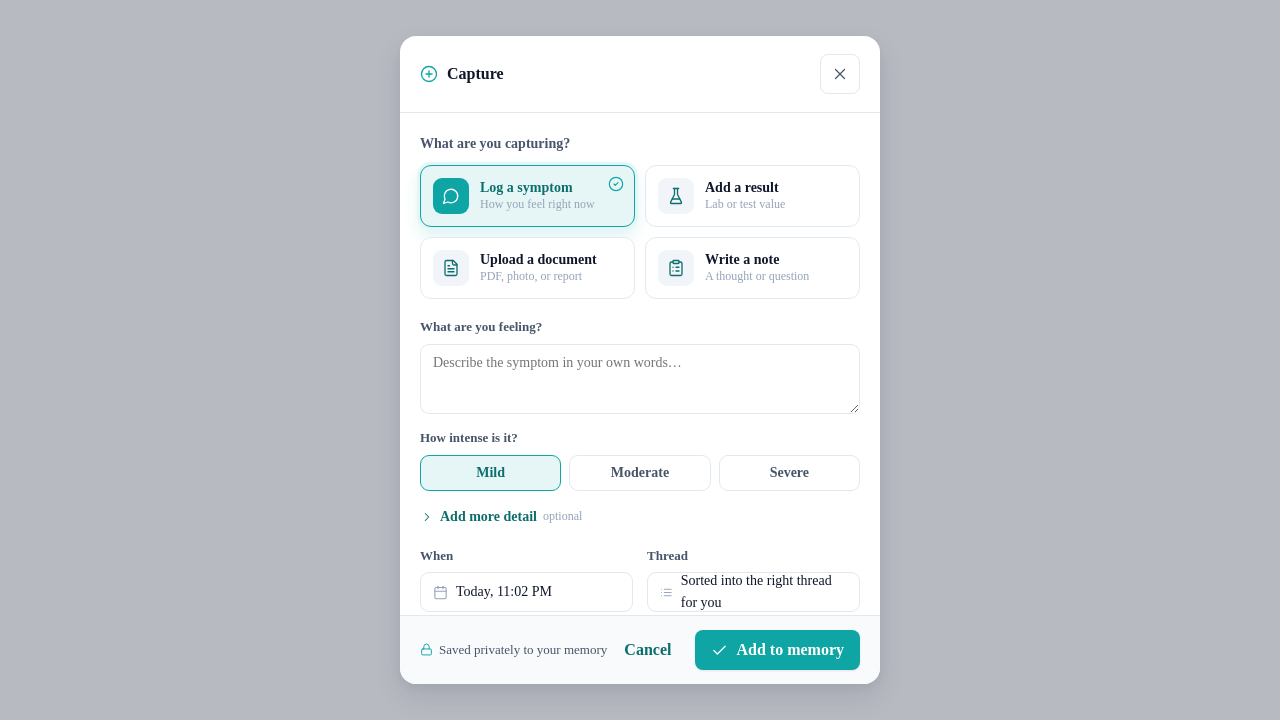
Test: CaptureModal › never requires the extra detail — a filled prompt with an empty story is still blocked
Click the button "Add more detail optional". click: click(501, 517)
box: [420, 505, 582, 529]
(page scrolled)
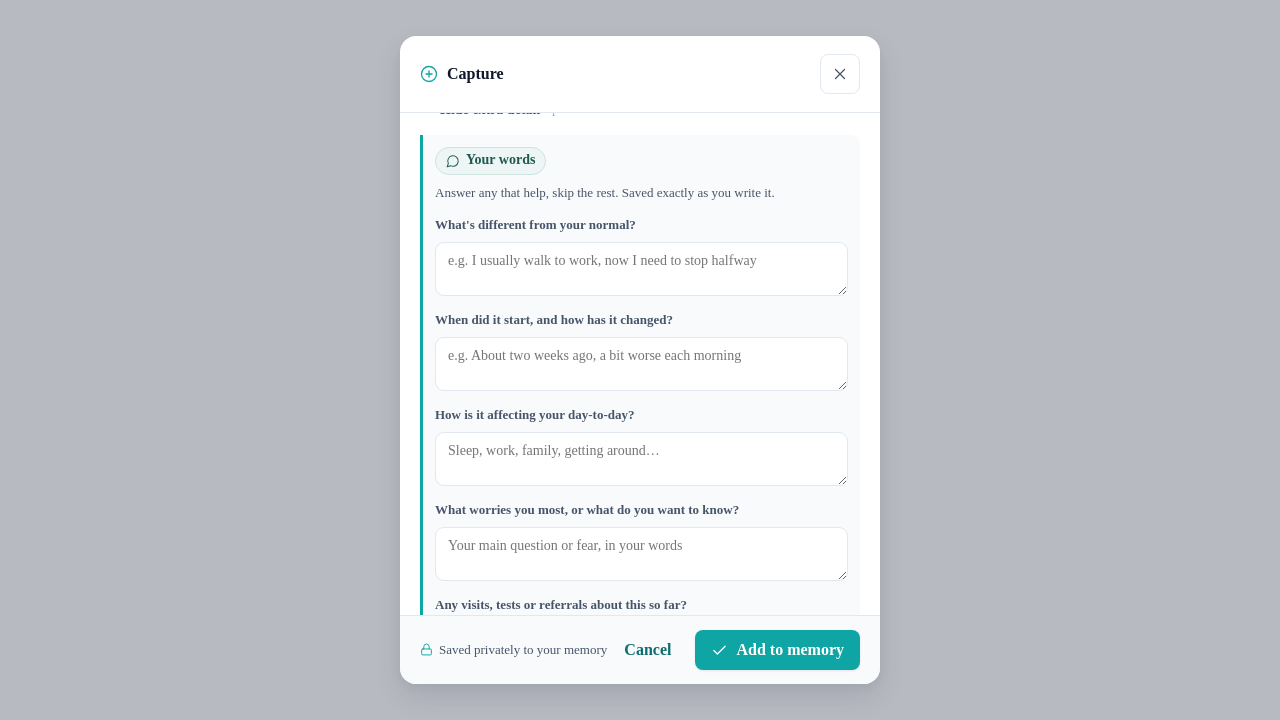
Type "yesterday" into the text box labelled "When did it start, and how has it changed?". click: (642, 364)
box: [435, 337, 848, 391]
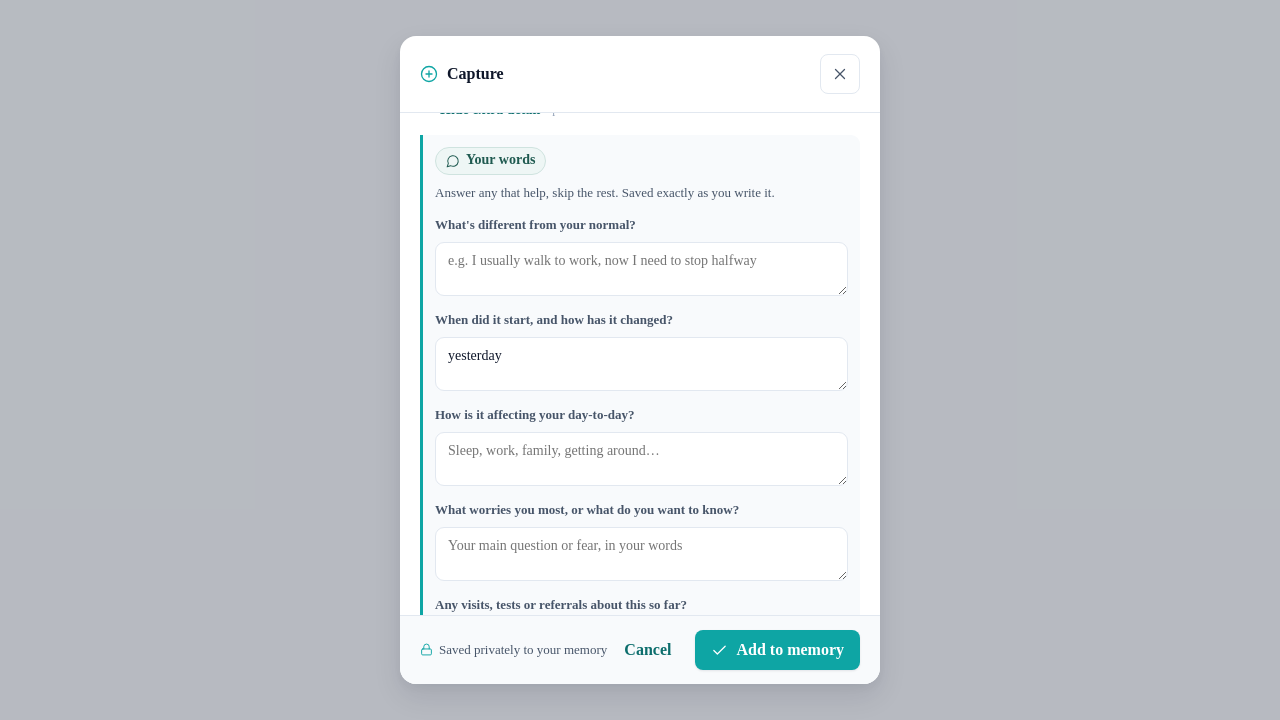
Click the button "Add to memory". click: click(778, 650)
box: [696, 630, 860, 670]
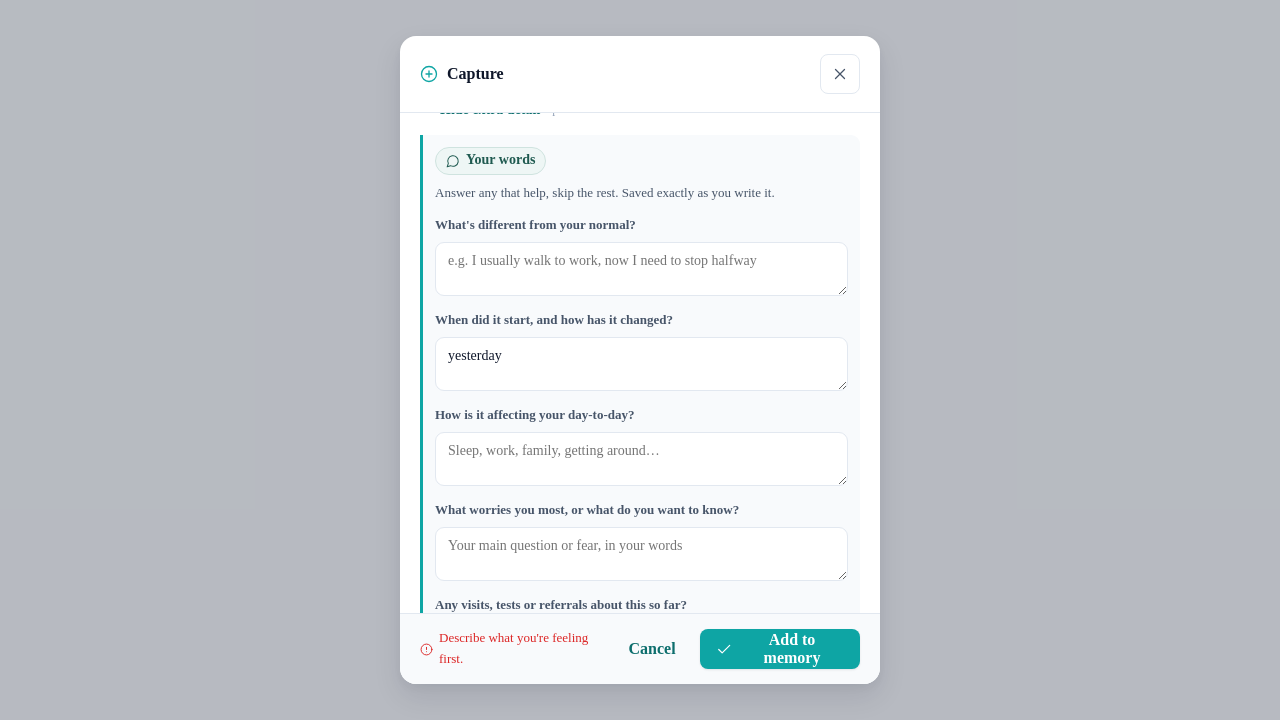
Now the text "Describe what you're feeling first." is shown, box [420, 628, 612, 670]
